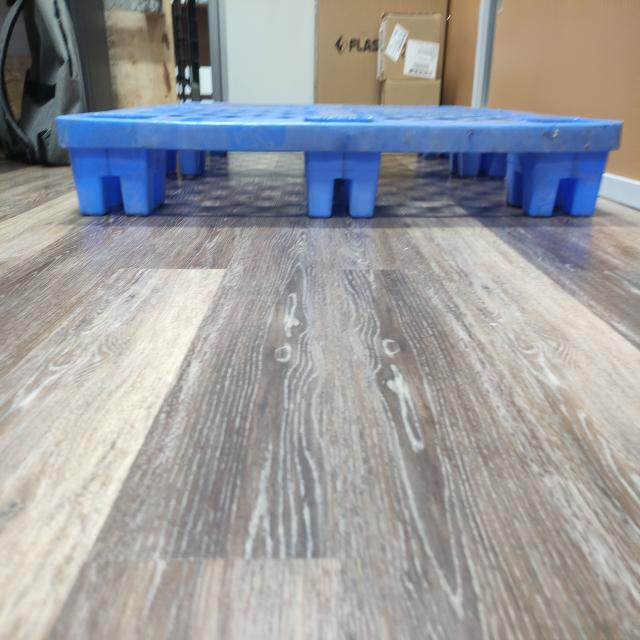block: (69, 149, 152, 219), (308, 149, 380, 222), (534, 156, 608, 222)
front: (56, 115, 621, 228)
